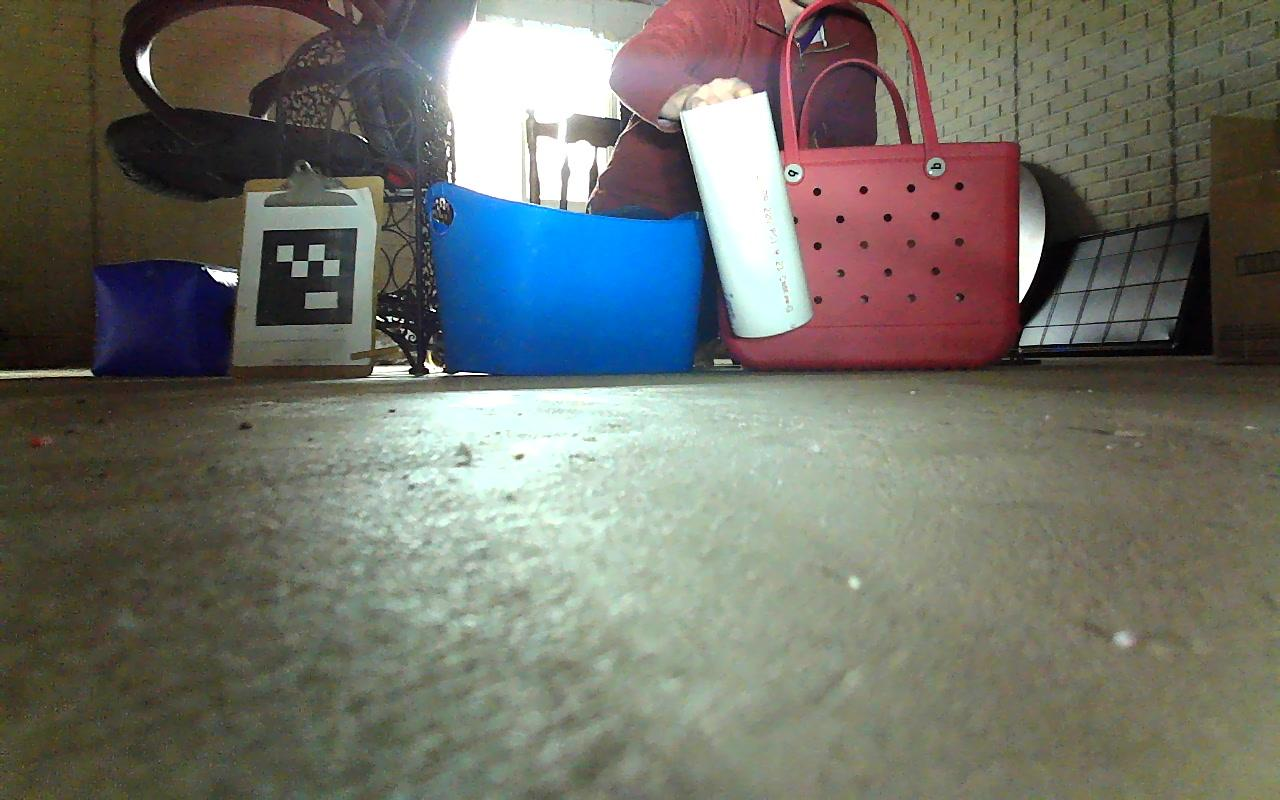coral: (679, 90, 815, 337)
